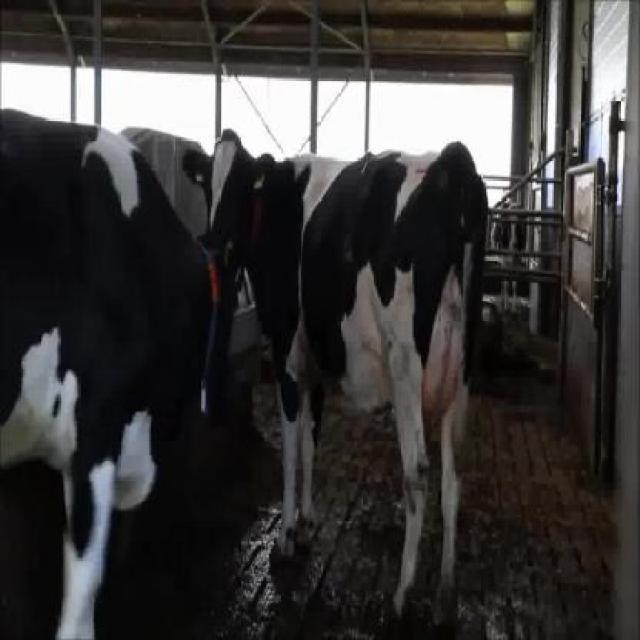Cow: (180, 126, 489, 626), (0, 106, 243, 639)
